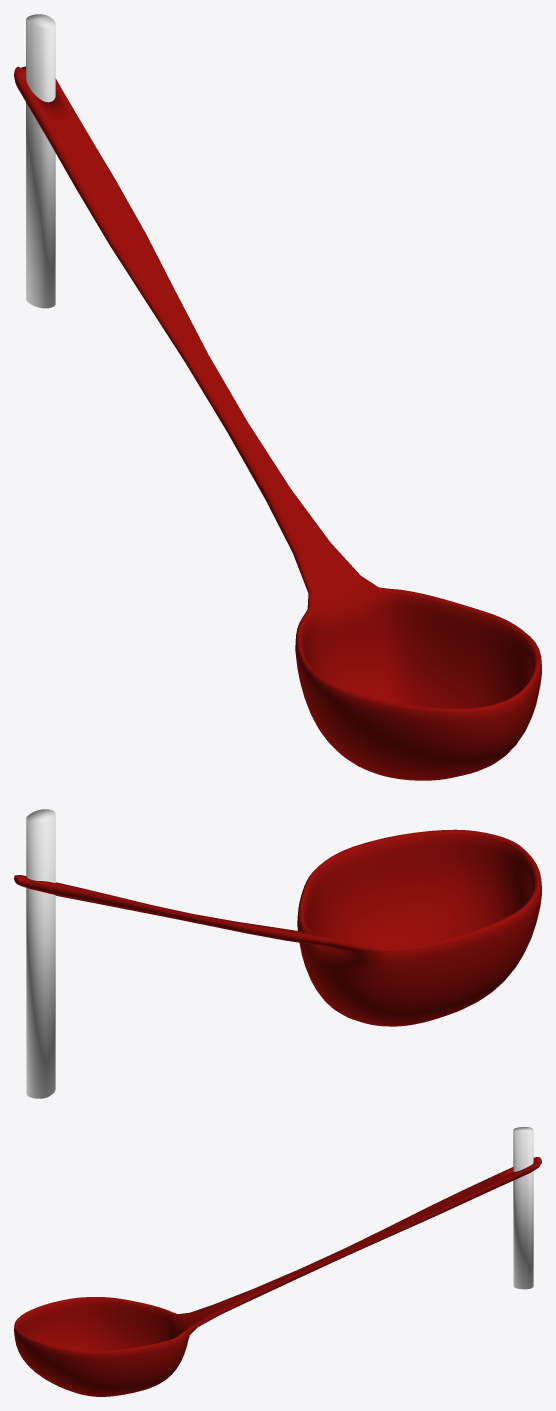
Rendered from bigSpoon_2025.dae.
The picture shows the model from 3 angles, top to bottom: view 1: azimuth 30°, elevation 25°; view 2: azimuth 150°, elevation 25°; view 3: azimuth 270°, elevation 25°; orthographic projection. The views are drawn at different scales.
Visible parts, largest first — view 1: BigSpoon, Circle; view 2: BigSpoon, Circle; view 3: BigSpoon, Circle.
Boxes of the visible parts, box(x1,y1,x2,y2) form: BigSpoon: box(14, 66, 541, 780); Circle: box(26, 14, 55, 308); BigSpoon: box(14, 829, 541, 1026); Circle: box(26, 809, 55, 1098); BigSpoon: box(14, 1157, 541, 1396); Circle: box(513, 1127, 533, 1289).
Bounding box in the file's own units: 1.58 × 6.3 × 3.44.
